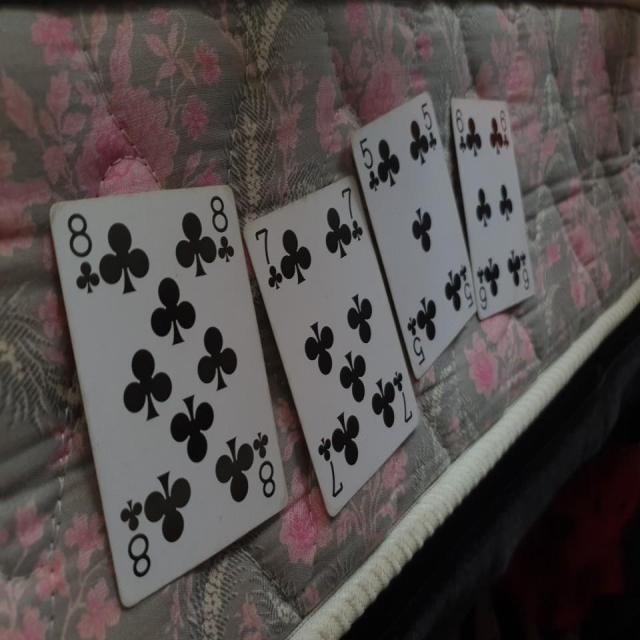5 Trefoils: (349, 90, 480, 380)
6 Trefoils: (449, 93, 536, 322)
7 Trefoils: (240, 174, 422, 519)
8 Trefoils: (47, 184, 287, 610)
